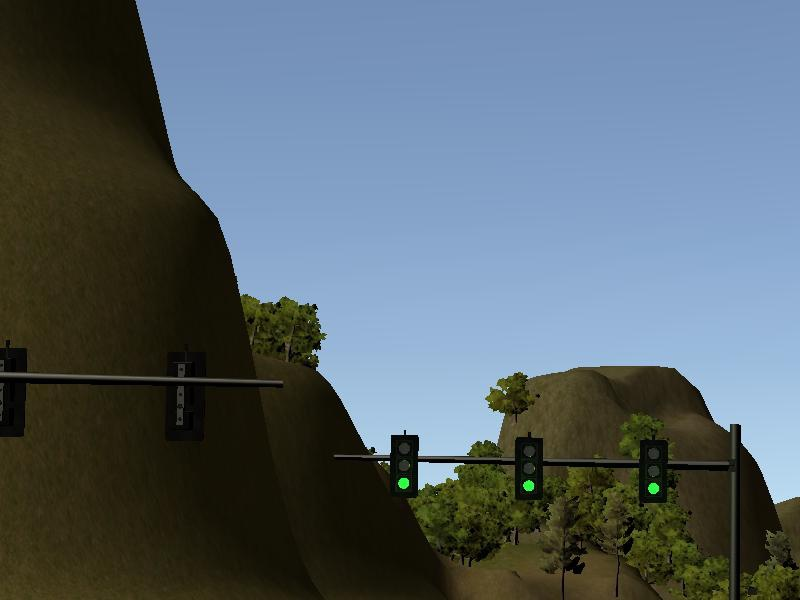Green: (638, 441, 667, 503), (391, 435, 418, 498), (516, 437, 542, 499)
